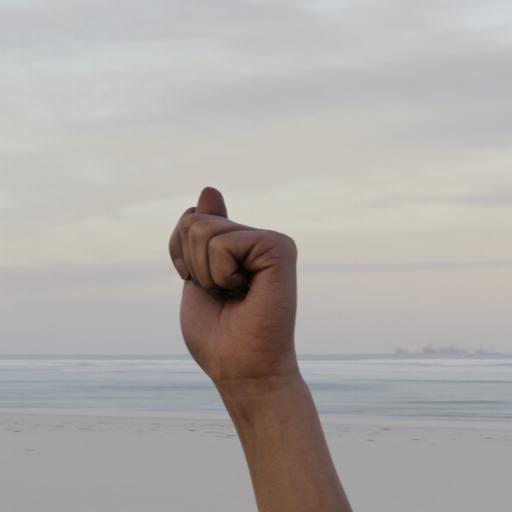T: (157, 160, 358, 512)
